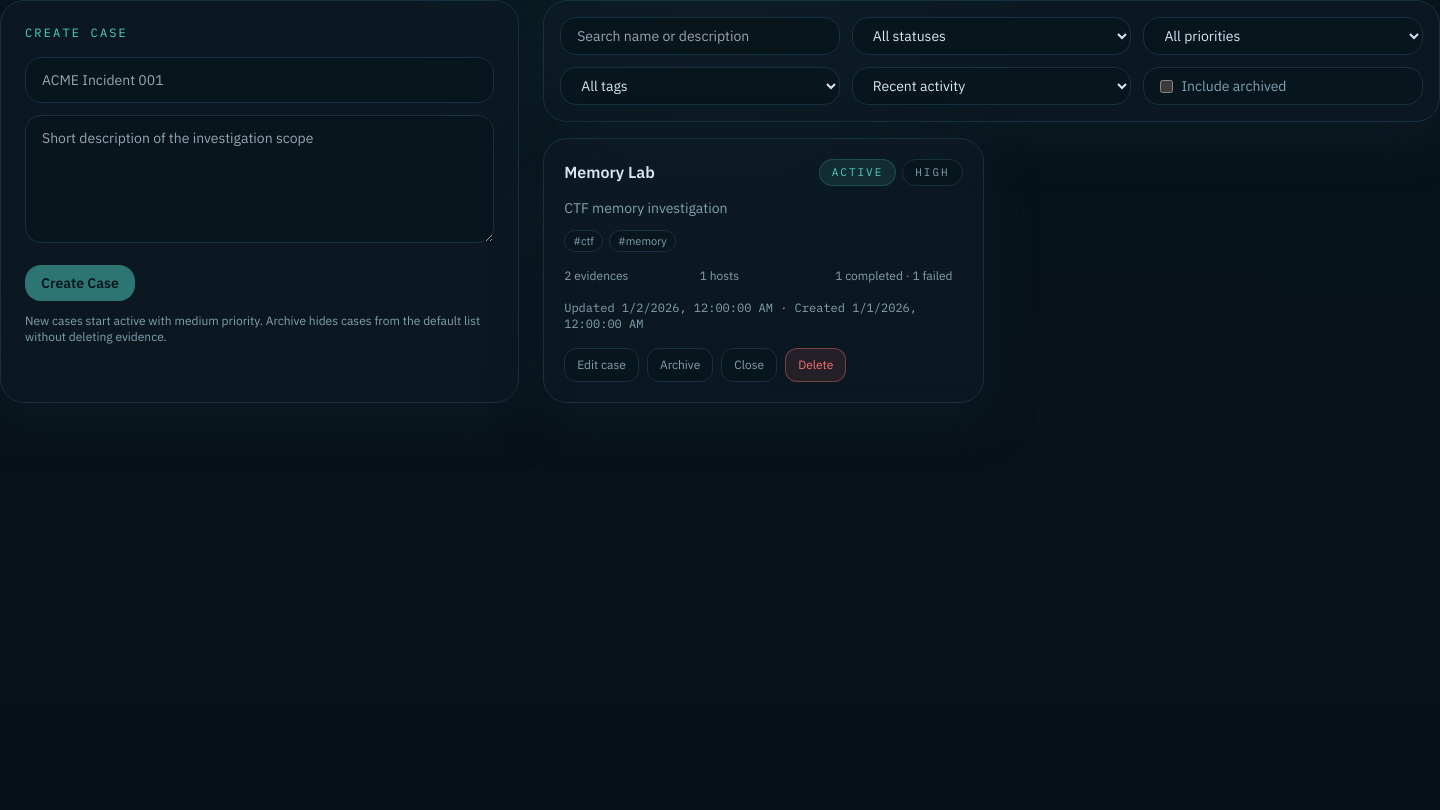
Test: Cases page › Delete Case › keeps Delete disabled until the exact case name is typed
Check: the heading "Memory Lab" is shown, box top-left (564, 160), bottom-right (655, 184)
Step 1. Click the button "Delete" → (816, 365), box top-left (785, 348), bottom-right (846, 382)
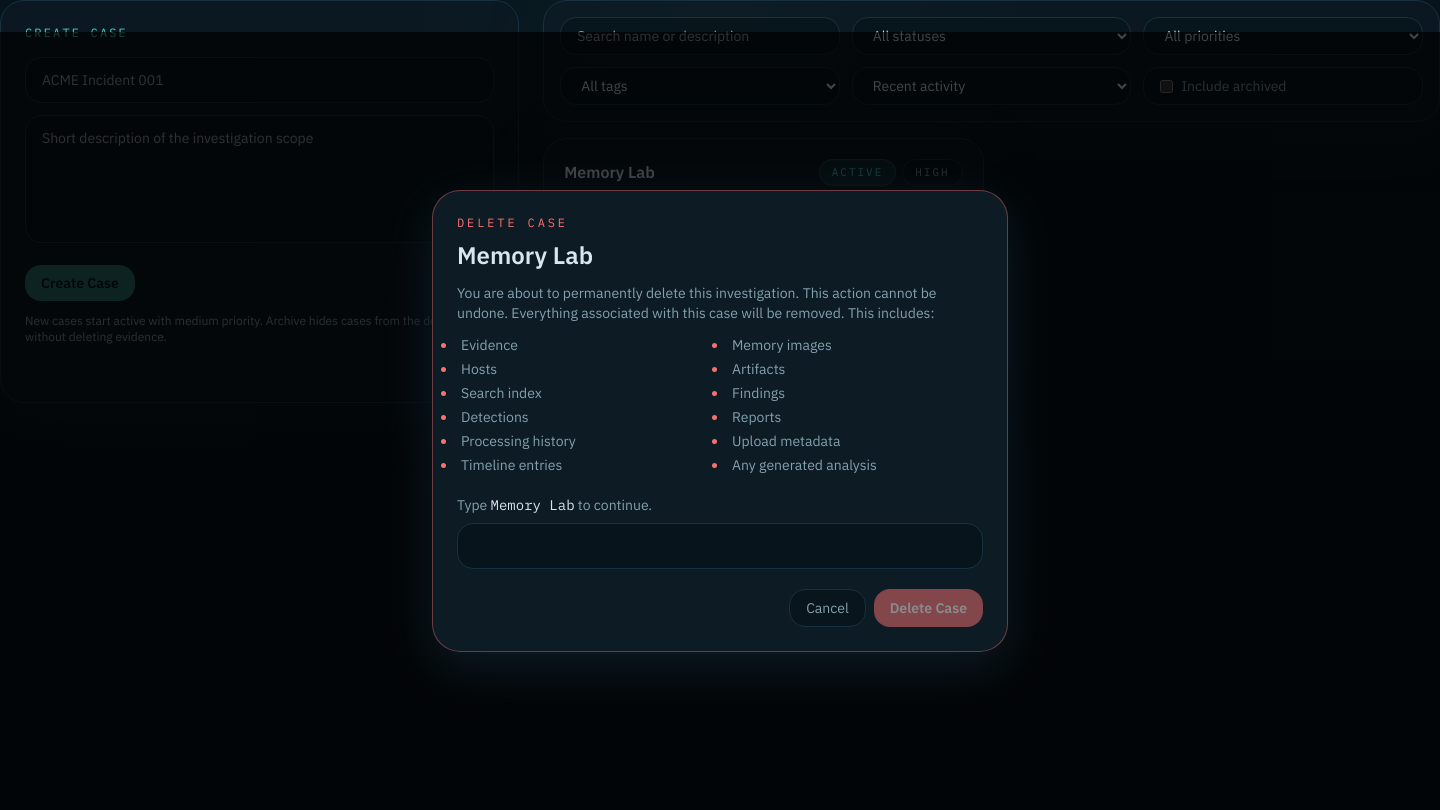
Check: the button "Delete Case" is disabled, box top-left (874, 589), bottom-right (983, 627)
Step 2. Type "Memory La" into the field → (720, 546), box top-left (457, 523), bottom-right (983, 569)
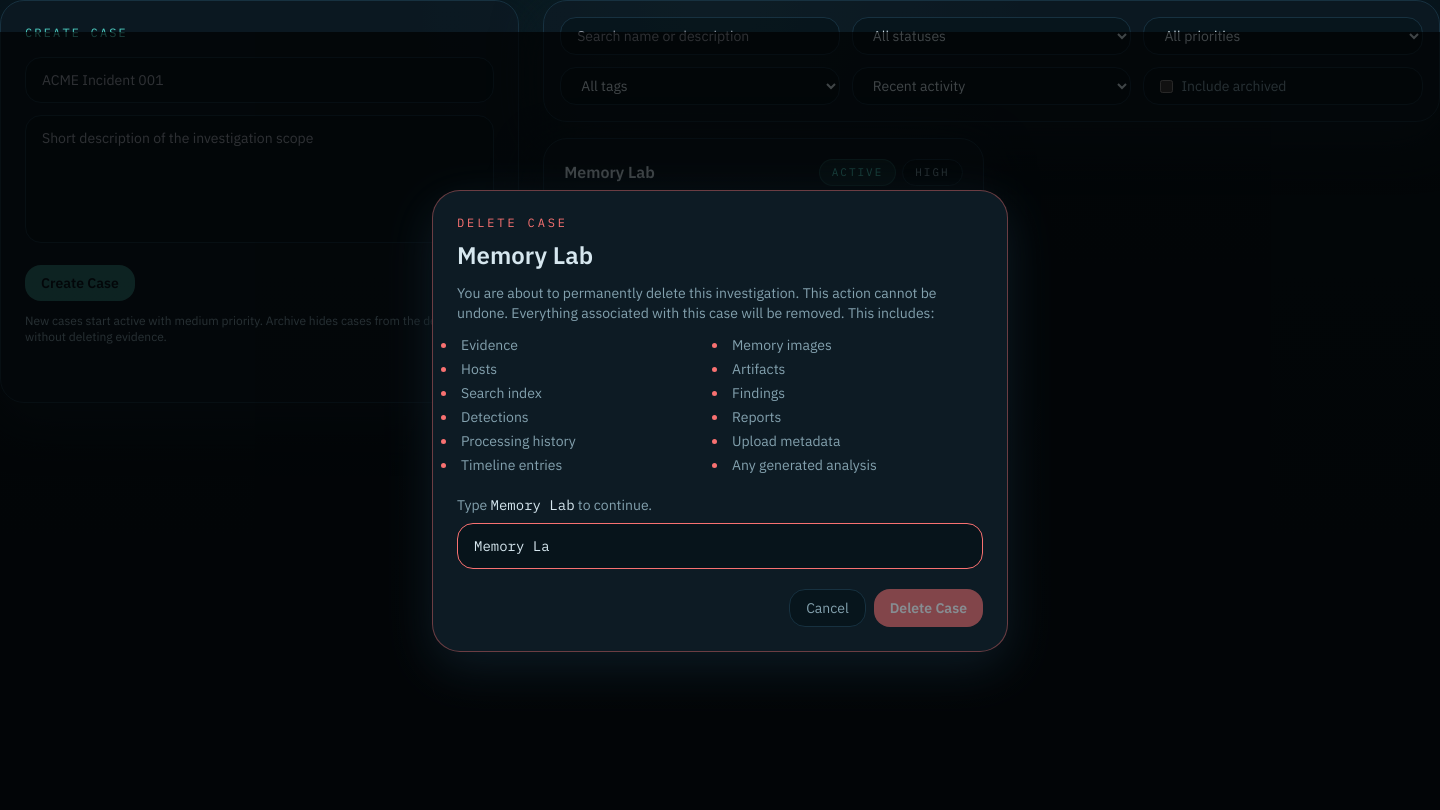
Check: the button "Delete Case" is disabled, box top-left (874, 589), bottom-right (983, 627)
Step 3. Type "b" into the field → (720, 546), box top-left (457, 523), bottom-right (983, 569)
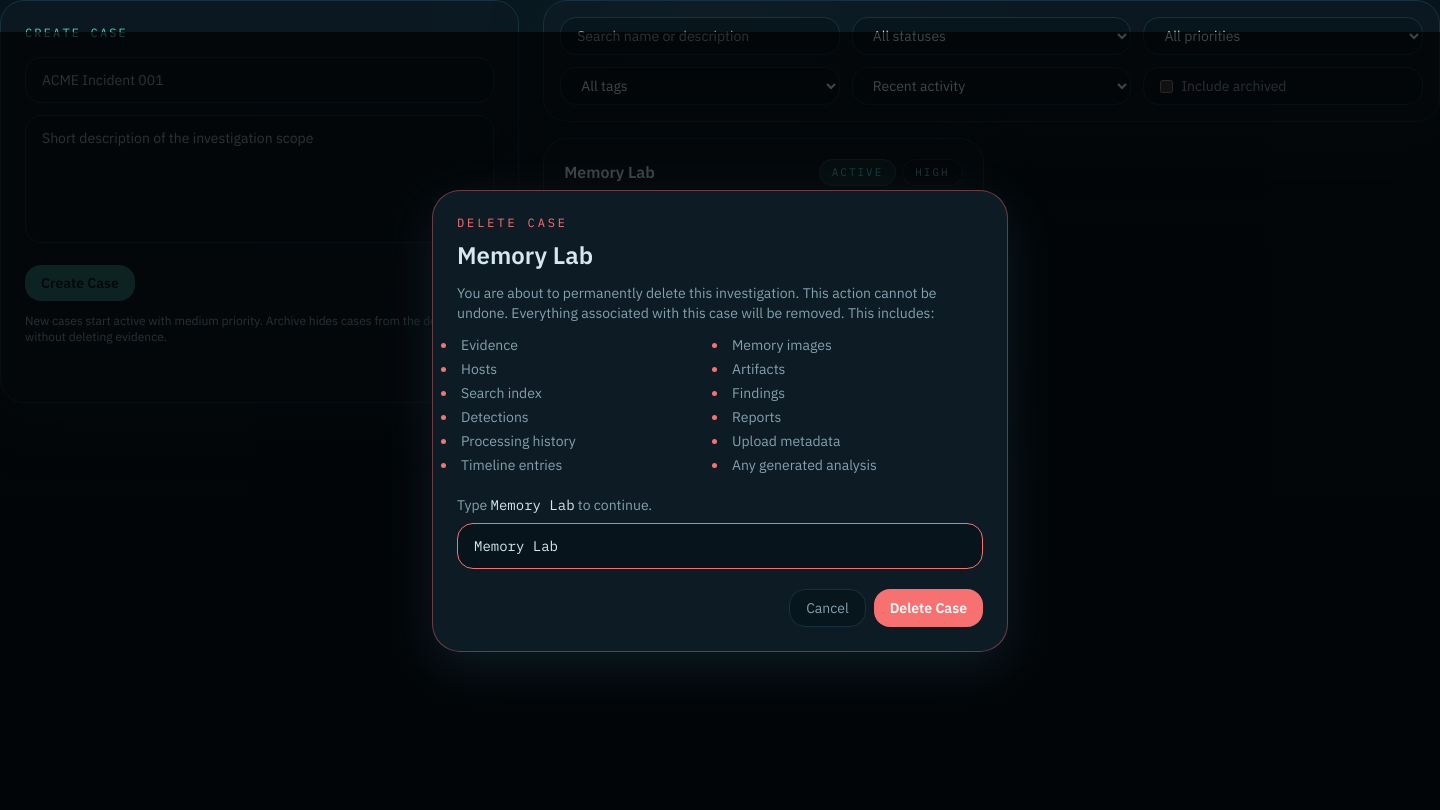
Check: the button "Delete Case" is enabled, box top-left (874, 589), bottom-right (983, 627)
